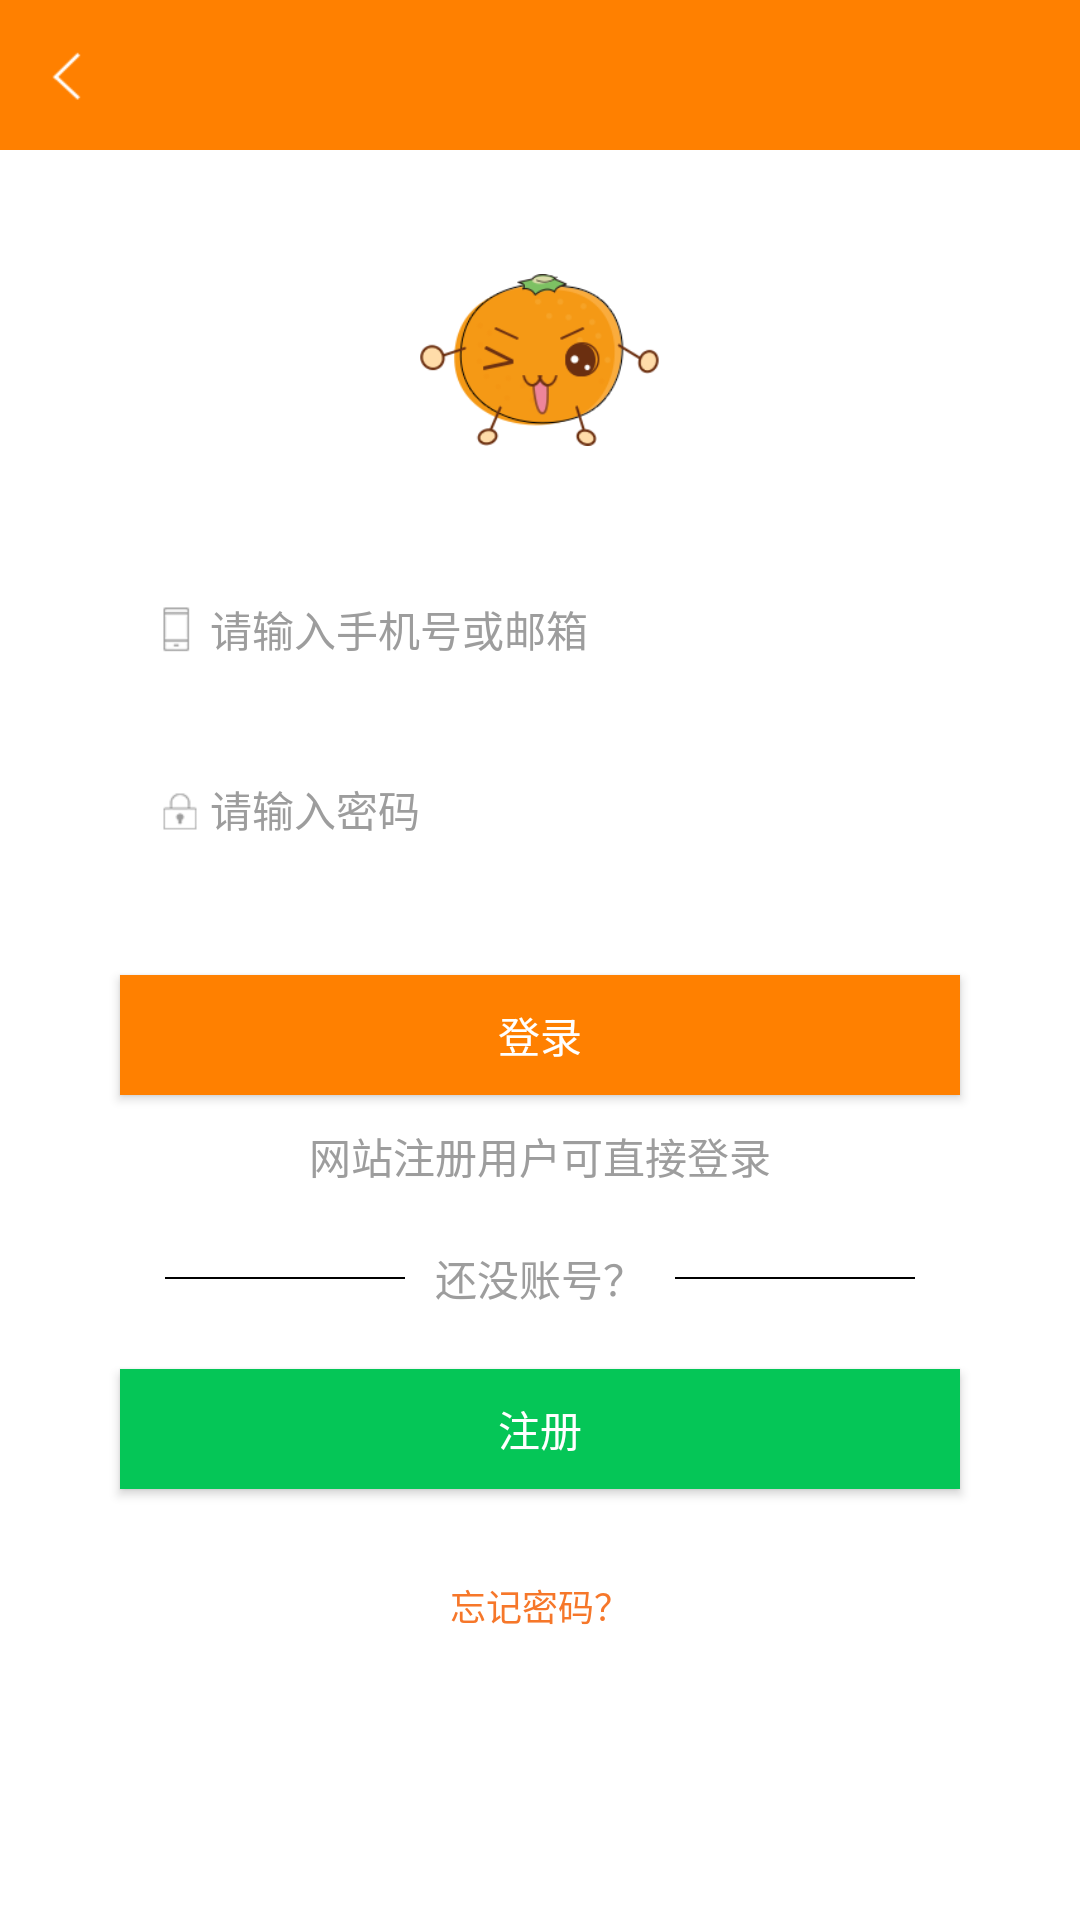

Where icons sit on this 1080w x 1920h app screen, as (x1, y1, x2, y2):
face success: (420, 274, 659, 446)
title back: (53, 52, 81, 100)
